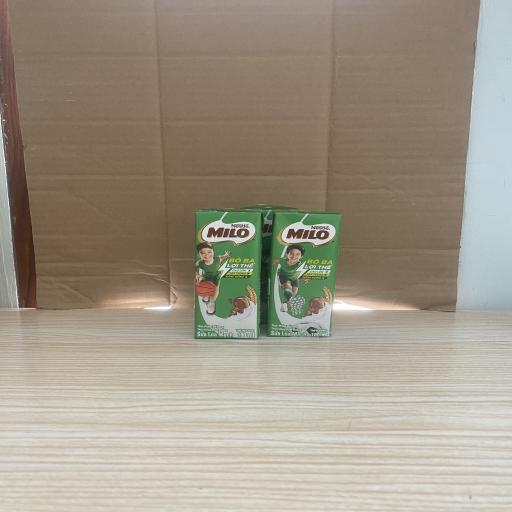milo: (266, 210, 343, 338), (194, 209, 262, 339), (233, 205, 299, 324)
